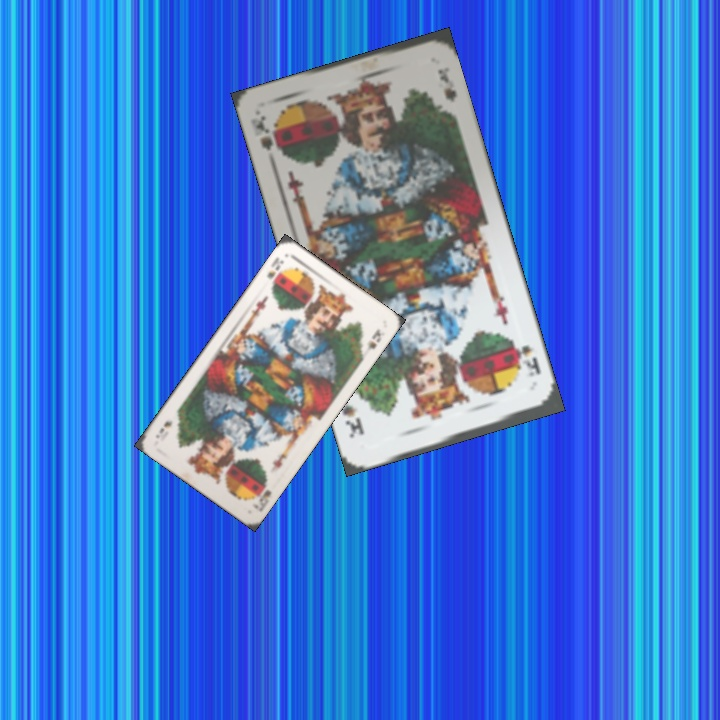SK: (252, 111, 285, 160), (508, 337, 544, 380), (248, 485, 274, 514), (263, 253, 287, 282)
